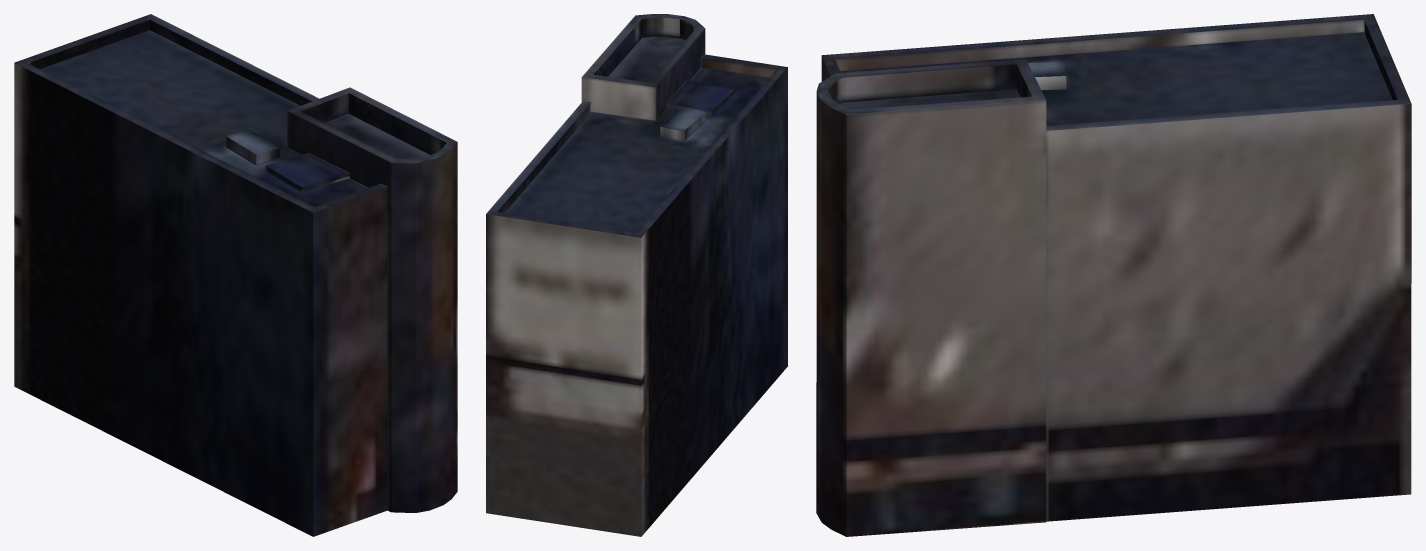
File: 01100-bldg-304557.glb
The picture shows the model from 3 angles, left to right: view 1: azimuth 30°, elevation 25°; view 2: azimuth 150°, elevation 25°; view 3: azimuth 270°, elevation 25°; orthographic projection. The views are drawn at different scales.
Parts seen in each view (by area): view 1: model; view 2: model; view 3: model.
Part boxes in pixels (x1=…): model: x1=14, y1=14, x2=457, y2=536; model: x1=486, y1=14, x2=787, y2=536; model: x1=816, y1=14, x2=1411, y2=536.
Bounding box in the file's own units: 7.99 × 11.87 × 15.17.
Materials: 2 (1 with a texture image).
